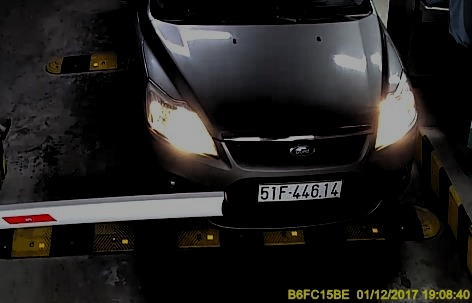plate: (255, 174, 349, 207)
